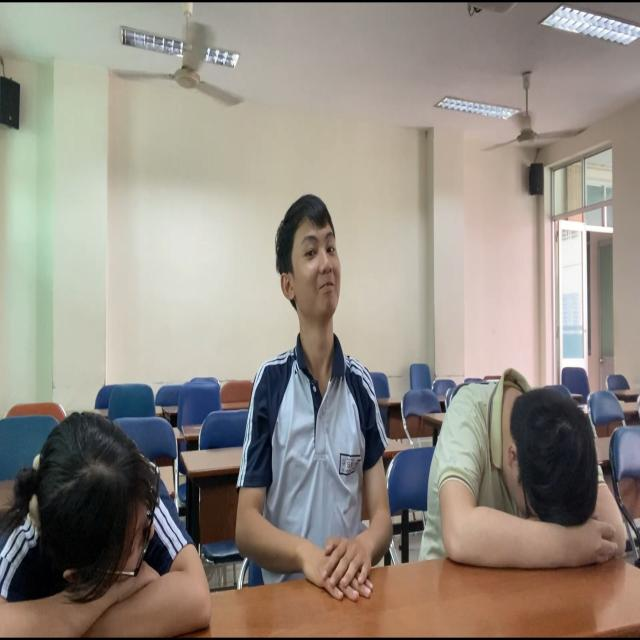sleep: (4, 402, 205, 633), (432, 365, 633, 582)
